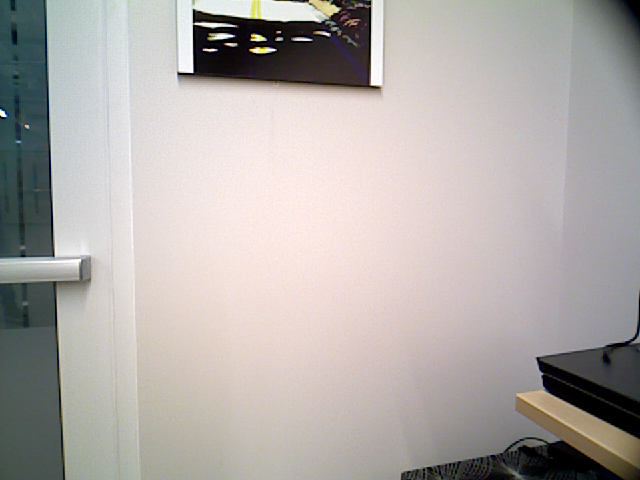painting3: (177, 1, 381, 87)
